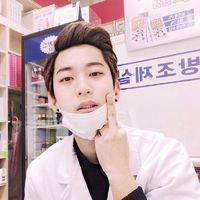WRONG: (54, 58, 122, 135)
